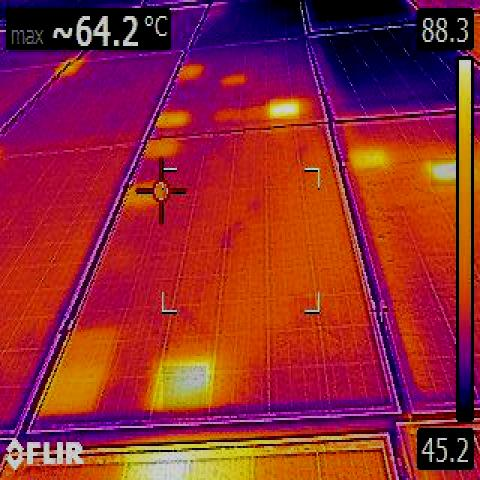fault: (163, 366, 206, 410), (431, 158, 457, 186), (270, 99, 299, 119)
